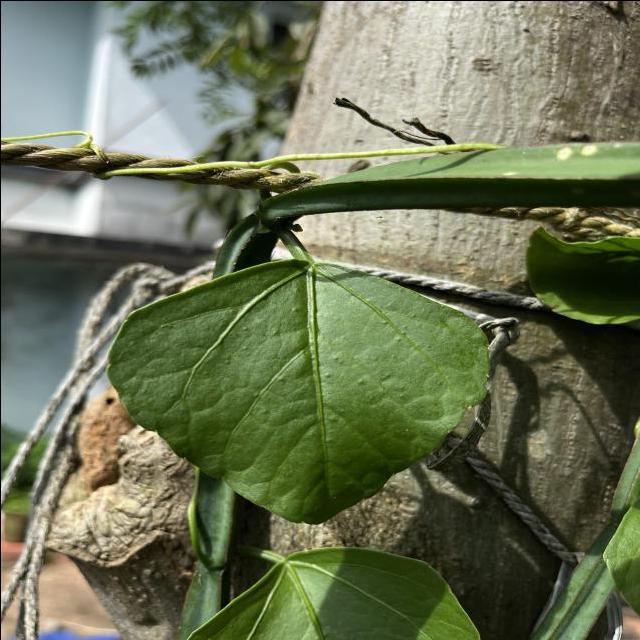Cissus quadrangularis: (100, 251, 494, 527)
